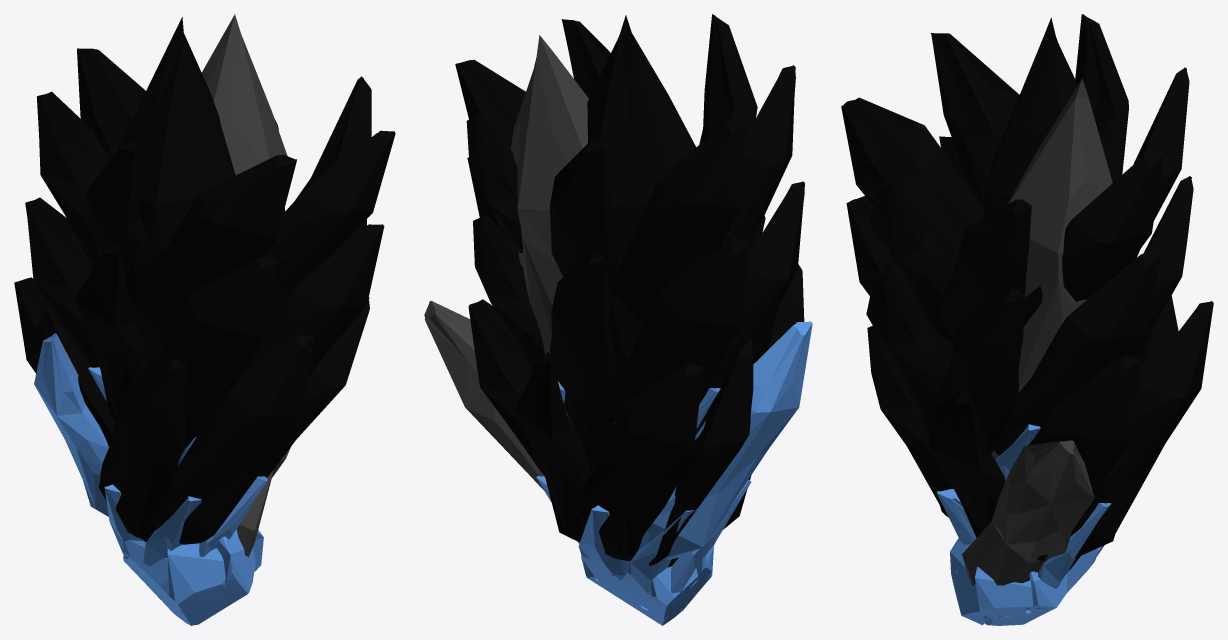
File: gem-undead.glb
3 views of the same model, side by side, from view 1: azimuth 30°, elevation 25°; view 2: azimuth 150°, elevation 25°; view 3: azimuth 270°, elevation 25° (orthographic). The views are drawn at different scales.
Parts seen in each view (by area): view 1: Group1, Group2, Group3, Mesh 2, Mesh, Icosahedron, Mesh 1; view 2: Group1, Group3, Group2, Mesh 2, Mesh, Icosahedron, Mesh 1; view 3: Group1, Group2, Group3, Icosahedron, Mesh 1, Mesh 2, Mesh.
Part boxes in pixels (x1=…): Group1: x1=37, y1=48, x2=395, y2=347; Group2: x1=25, y1=197, x2=384, y2=448; Group3: x1=14, y1=277, x2=369, y2=544; Mesh 2: x1=34, y1=333, x2=267, y2=625; Mesh: x1=105, y1=17, x2=235, y2=458; Icosahedron: x1=201, y1=14, x2=287, y2=213; Mesh 1: x1=236, y1=447, x2=290, y2=557; Group1: x1=455, y1=14, x2=795, y2=325; Group3: x1=468, y1=264, x2=804, y2=567; Group2: x1=467, y1=157, x2=804, y2=437; Mesh 2: x1=536, y1=321, x2=812, y2=625; Mesh: x1=571, y1=15, x2=705, y2=473; Icosahedron: x1=510, y1=35, x2=588, y2=422; Mesh 1: x1=424, y1=301, x2=543, y2=490; Group1: x1=841, y1=14, x2=1189, y2=343; Group2: x1=846, y1=136, x2=1193, y2=455; Group3: x1=867, y1=296, x2=1213, y2=570; Icosahedron: x1=991, y1=78, x2=1112, y2=459; Mesh 1: x1=962, y1=440, x2=1094, y2=585; Mesh 2: x1=937, y1=424, x2=1111, y2=625; Mesh: x1=984, y1=17, x2=1120, y2=217.
Bounding box in the file's own units: 1.08 × 1.79 × 0.9767.
